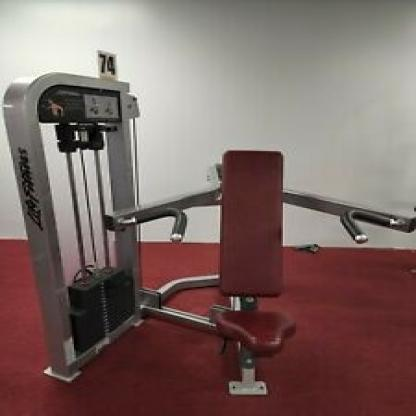shoulder press machine: (5, 72, 416, 397)
